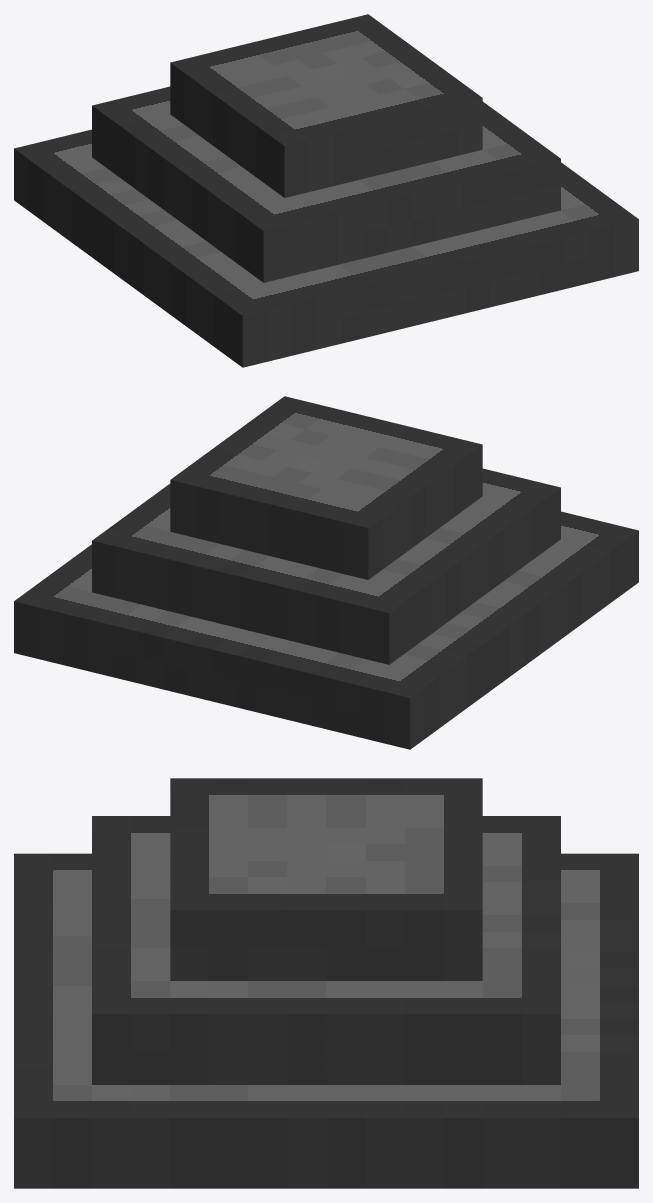
File: gas_lift.obj
3 renders of one model, top to bottom at view 1: azimuth 30°, elevation 25°; view 2: azimuth 150°, elevation 25°; view 3: azimuth 270°, elevation 25°, orthographic. The views are drawn at different scales.
Size of the model in its own units: 1 by 0.375 by 1.
